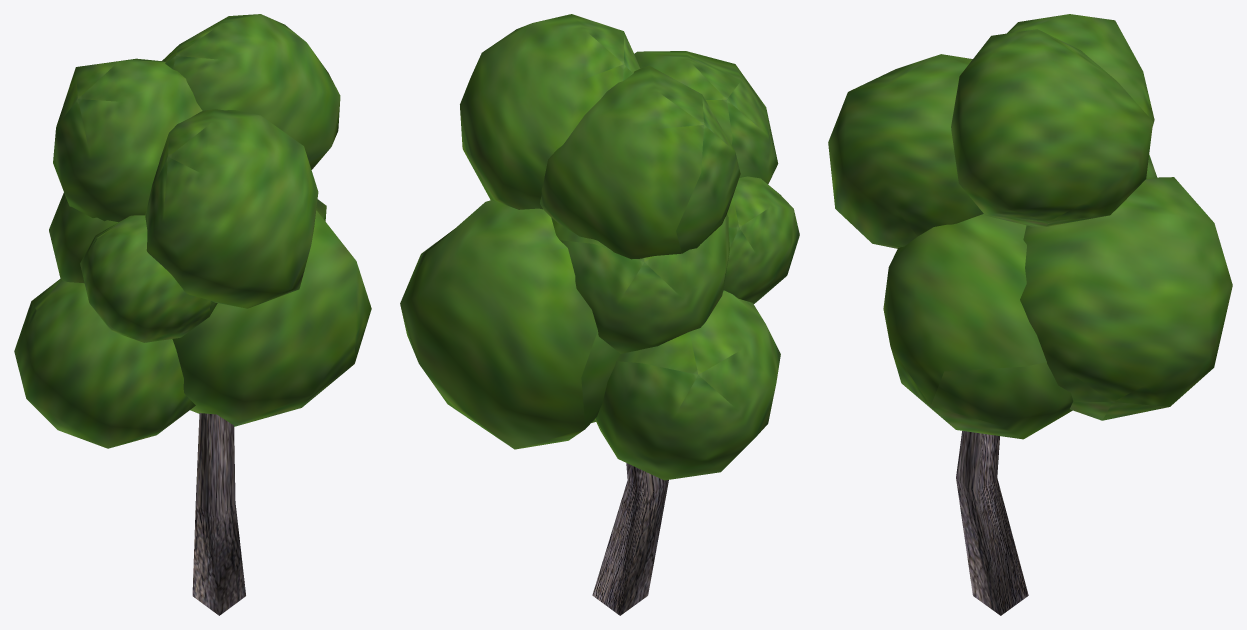
File: tree.fbx
3 renders of one model, left to right at view 1: azimuth 30°, elevation 25°; view 2: azimuth 150°, elevation 25°; view 3: azimuth 270°, elevation 25°, orthographic. The views are drawn at different scales.
Visible parts, largest first — view 1: Object001; view 2: Object001; view 3: Object001.
Part boxes in pixels (bbox=[...]): Object001: bbox=[14, 14, 371, 615]; Object001: bbox=[400, 14, 799, 615]; Object001: bbox=[828, 14, 1232, 615].
Bounding box in the file's own units: 394 × 666 × 420.
Materials: 1 (1 with a texture image).
